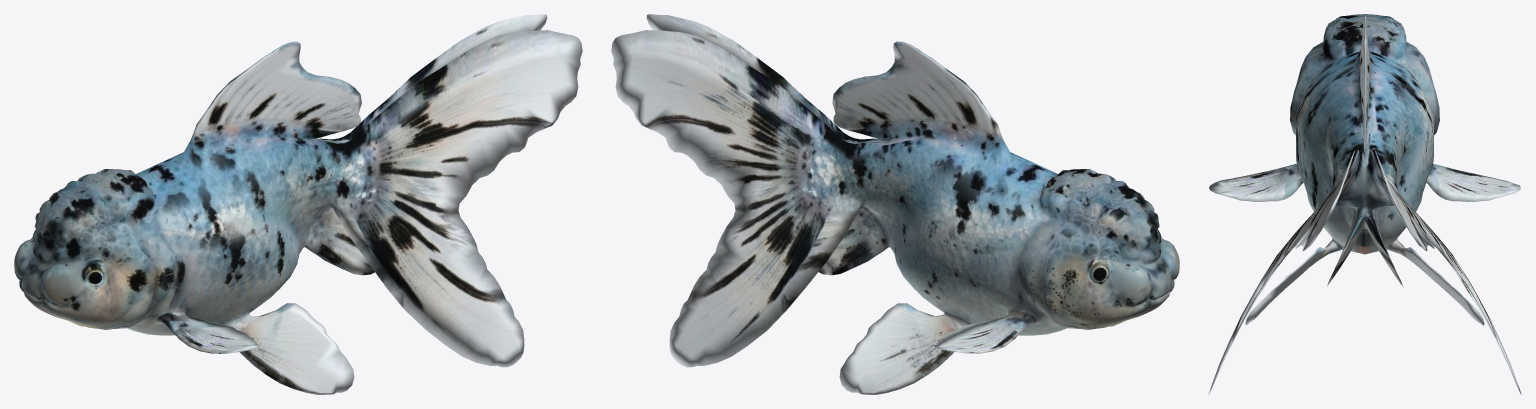
The model's file is fish.glb.
The picture shows the model from 3 angles, left to right: view 1: azimuth 30°, elevation 25°; view 2: azimuth 150°, elevation 25°; view 3: azimuth 270°, elevation 25°; orthographic projection.
Visible parts, largest first — view 1: fish; view 2: fish; view 3: fish.
Boxes of the visible parts, bbox=[...] form: fish: bbox=[14, 14, 582, 394]; fish: bbox=[611, 14, 1179, 394]; fish: bbox=[1208, 14, 1521, 394].
Size of the model in its own units: 0.12 by 0.0655 by 0.06.
Materials: 1 (1 with a texture image).
